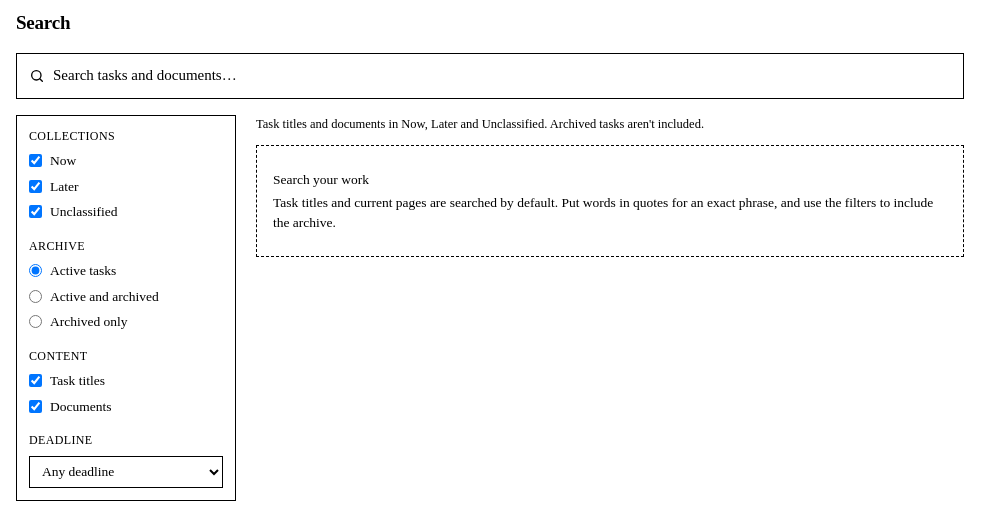
Test case: the full search screen › pages with the server cursor and restarts when a cursor goes stale
In the search field: x=502, y=76 [53,54,951,98], type "portfolio"
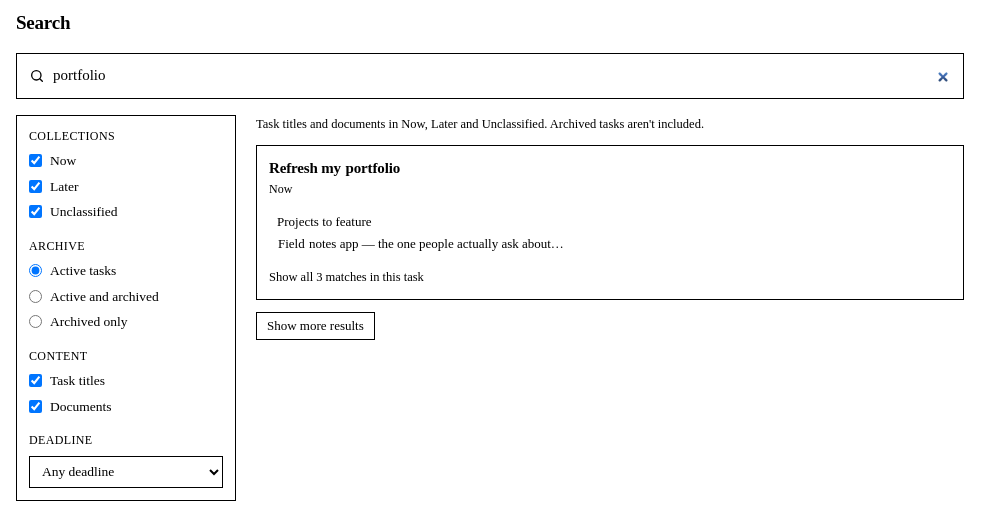
Click the button "Show more results": x=315, y=326 [256,312,375,340]
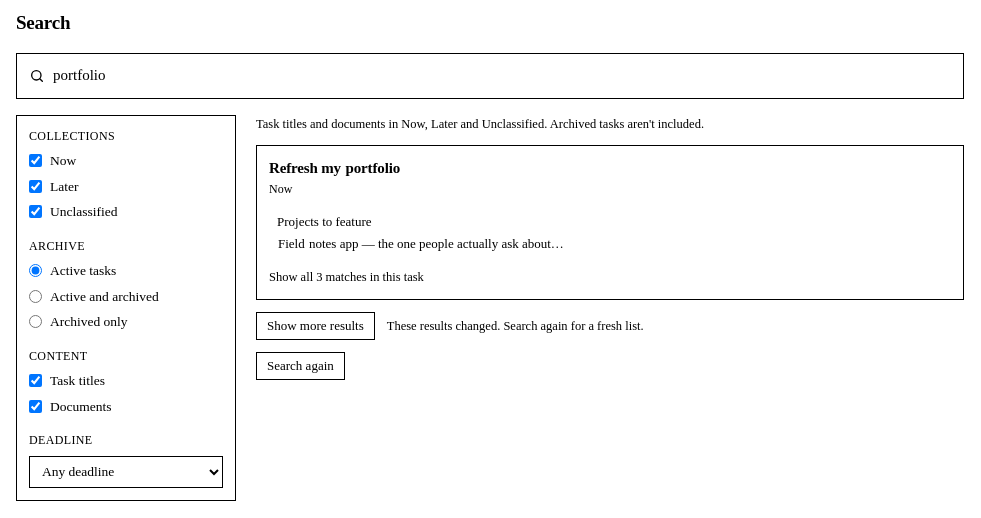
Check: the text "These results changed. Search again for a fresh list." is shown, box [387,317,644,335]
Click the button "Search again": x=300, y=366 [256,352,345,380]
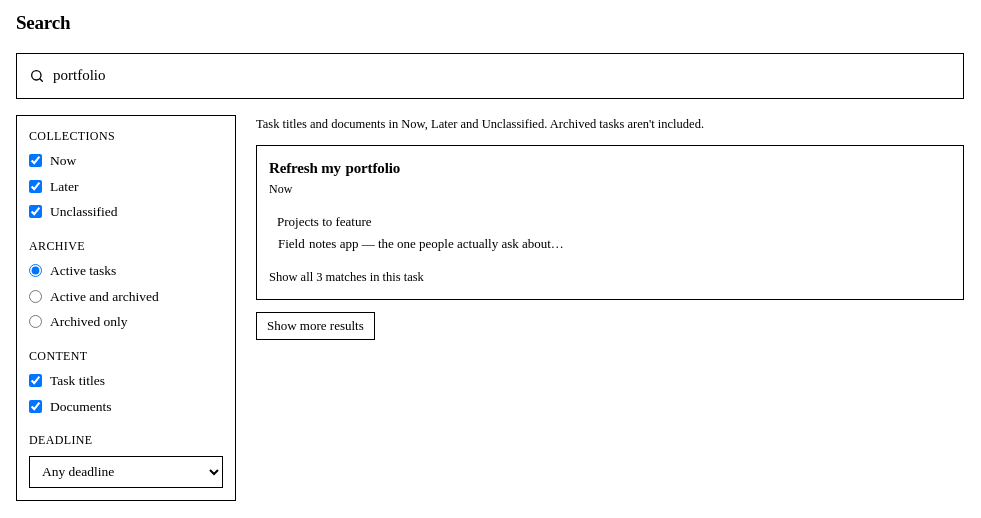
Check: the text "These results changed" is gone
